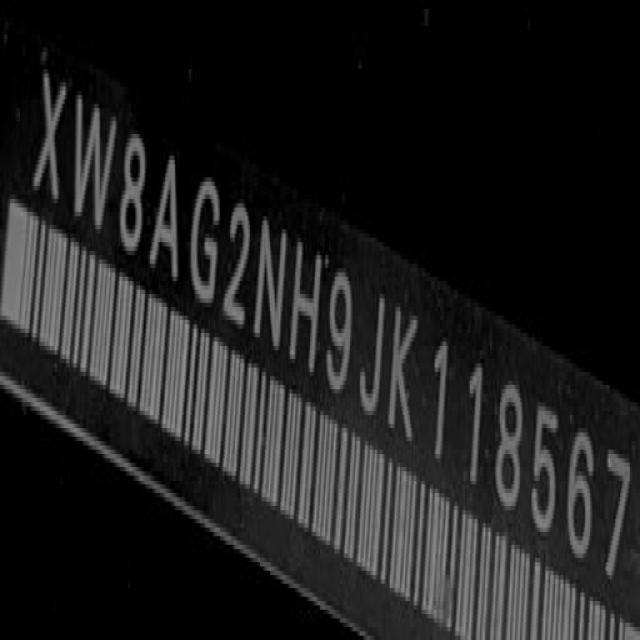1: (465, 352, 487, 498), (428, 336, 450, 476)
2: (222, 195, 252, 338)
5: (528, 397, 561, 549)
6: (563, 418, 595, 574)
7: (603, 441, 637, 597)
8: (494, 378, 528, 522), (116, 127, 150, 266)
9: (324, 259, 356, 407)
A: (148, 149, 185, 292)
C: (188, 170, 224, 318)
H: (290, 237, 325, 381)
J: (358, 290, 386, 423)
K: (390, 300, 423, 453)
N: (254, 209, 291, 362)
W: (71, 85, 118, 245)
X: (30, 63, 70, 214)
